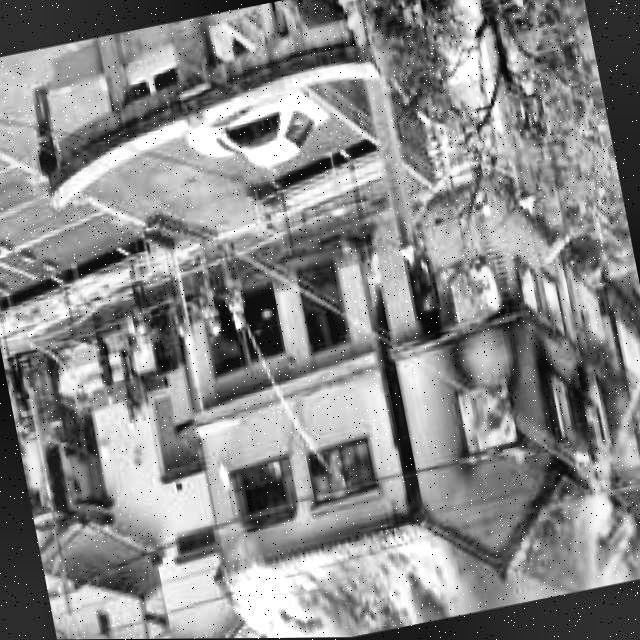Fire: (339, 167, 640, 526), (245, 430, 383, 522)
Smoke: (221, 500, 603, 639)
